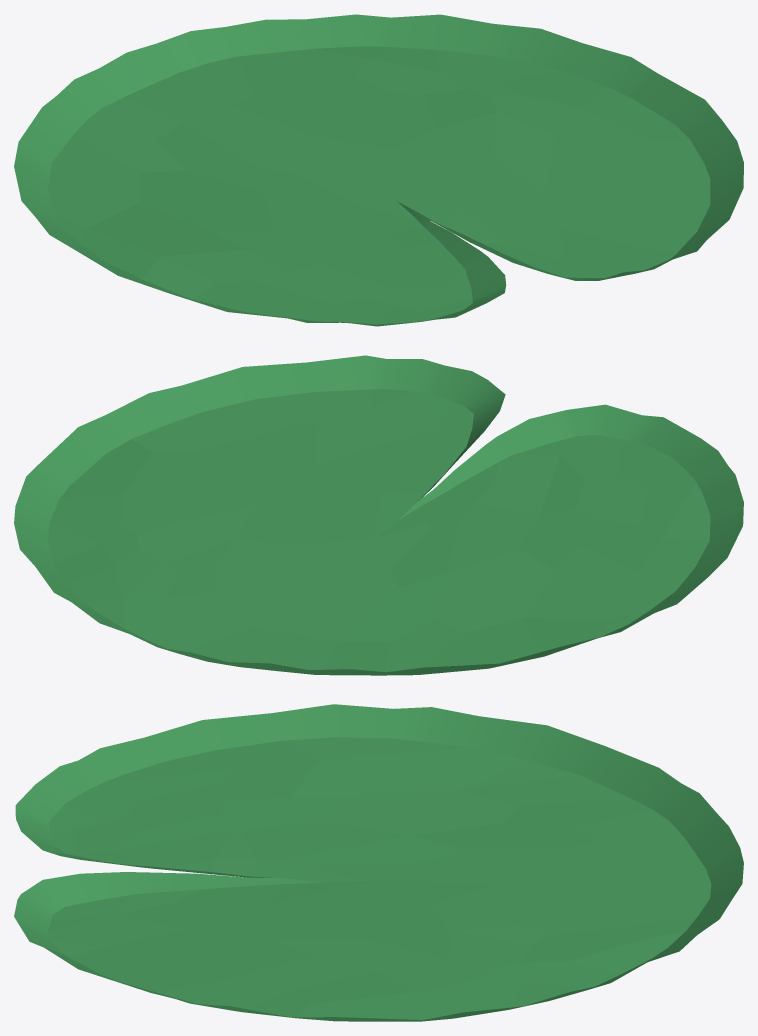
File: plant_nymphaea_A.fbx
3 views of the same model, one above another, from view 1: azimuth 30°, elevation 25°; view 2: azimuth 150°, elevation 25°; view 3: azimuth 270°, elevation 25° (orthographic).
Parts seen in each view (by area): view 1: plant_nymphaea_A; view 2: plant_nymphaea_A; view 3: plant_nymphaea_A.
Boxes of the visible parts, <box> form: plant_nymphaea_A: <box>14,14,743,326</box>; plant_nymphaea_A: <box>14,355,743,675</box>; plant_nymphaea_A: <box>14,704,743,1021</box>.
Bounding box in the file's own units: 42.68 × 1.63 × 42.26.
